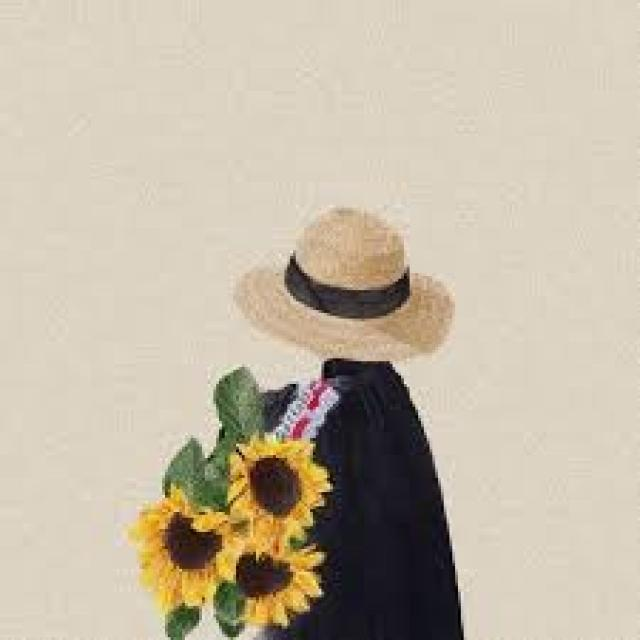sunflower: (127, 484, 230, 612), (226, 429, 330, 546), (213, 532, 324, 629)
